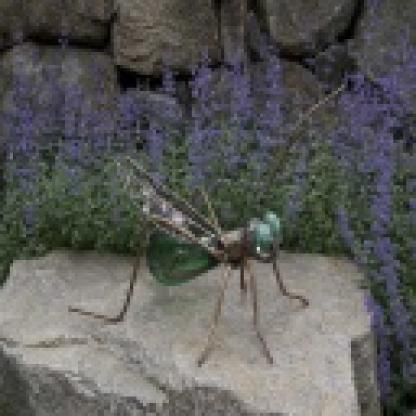grasshopper: (78, 134, 322, 367)
